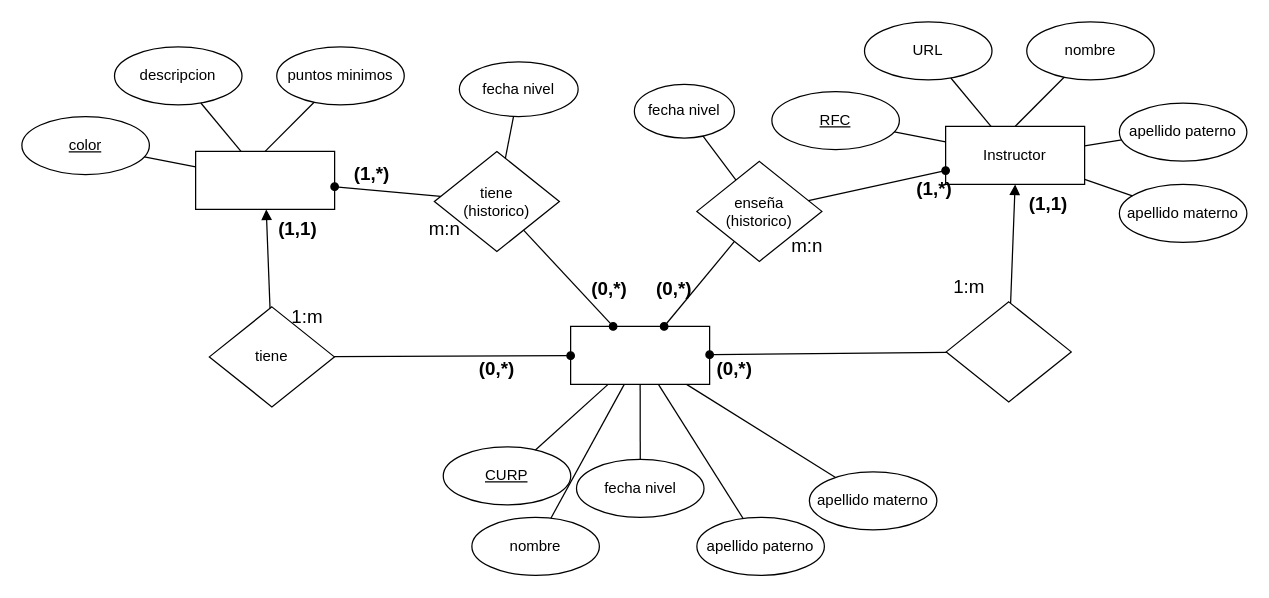
This 1269x598 diagram has some shape labels left out. Each missing label, with the centre of its shape:
"Alumno" goes at (x=639, y=354).
"enseña" goes at (x=1008, y=351).
"Nivel Karate" goes at (x=264, y=179).
